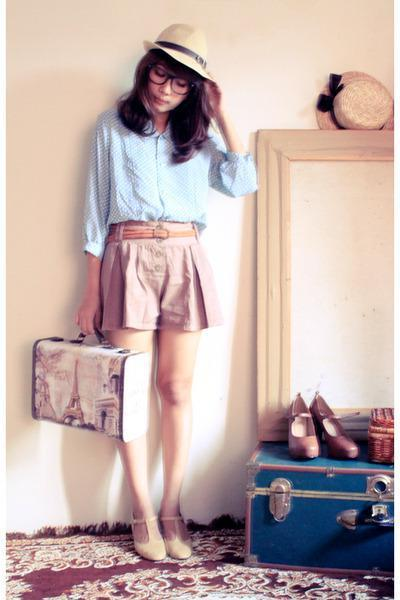Shorts: (89, 221, 228, 335)
long sleeve shirt: (78, 107, 258, 258)
